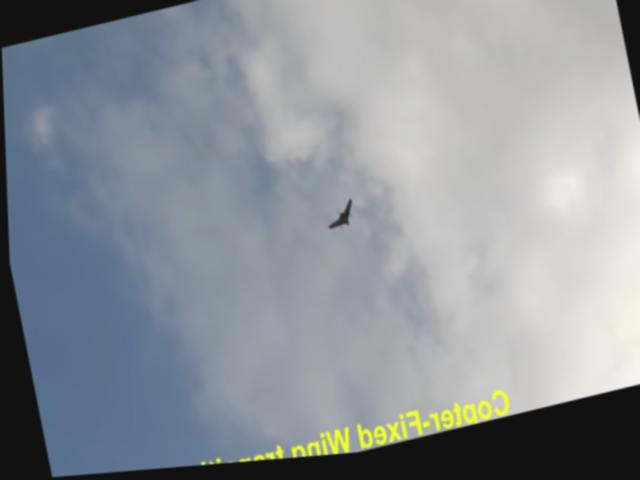plane: (324, 204, 354, 237)
